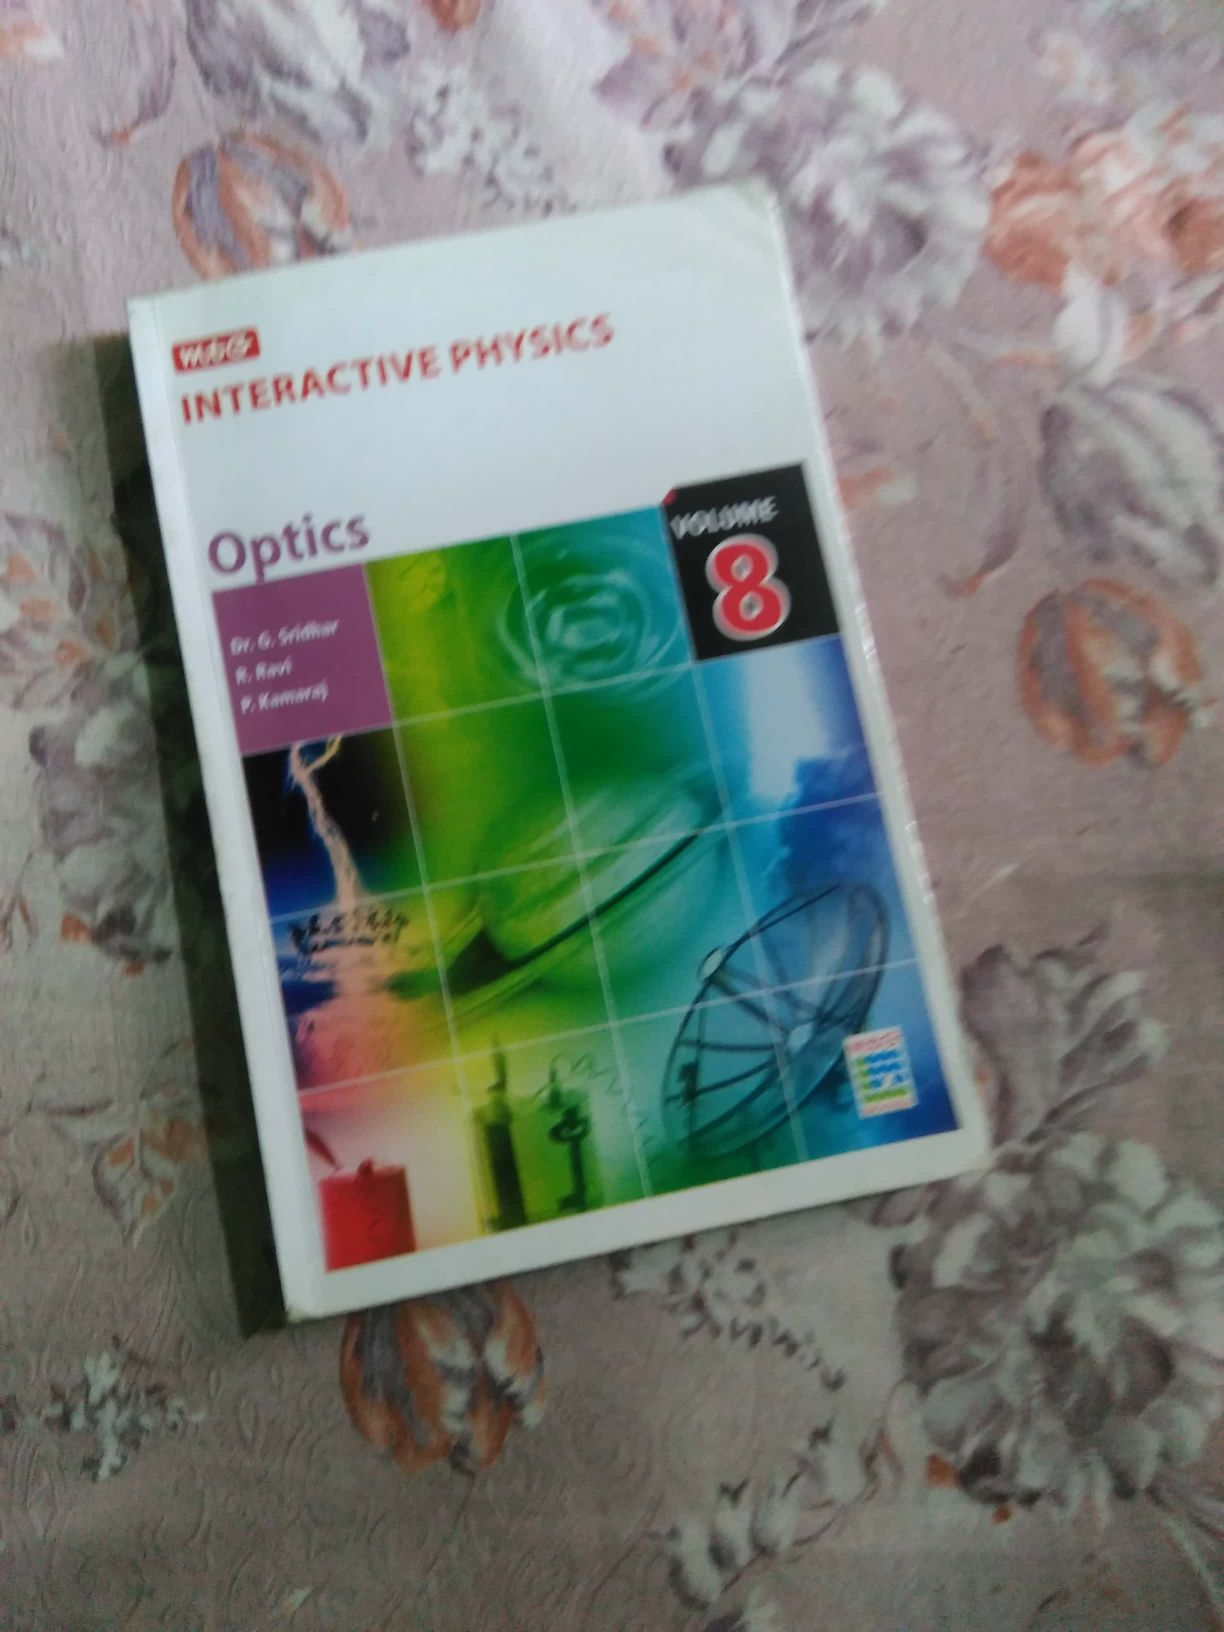optics: (111, 188, 1026, 1298)
